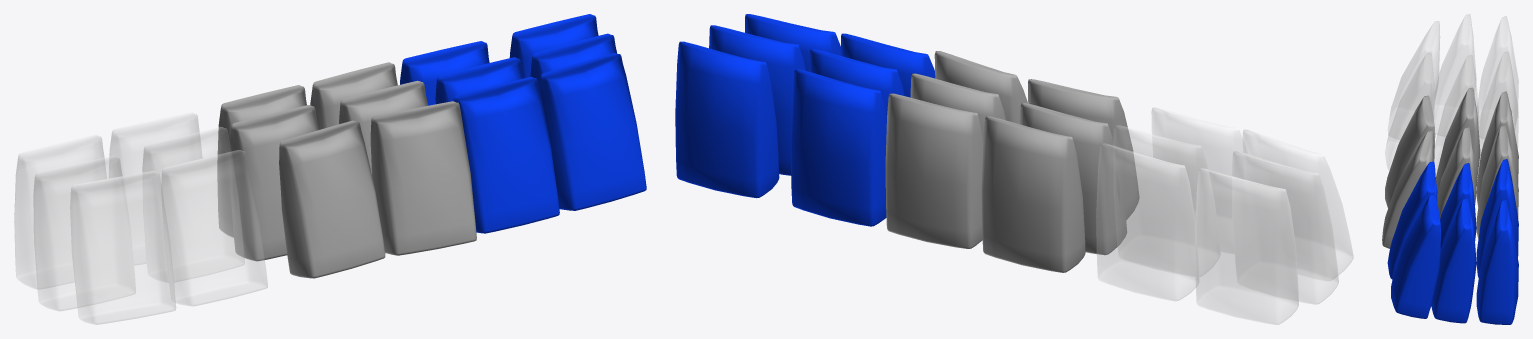
Rendered from Bag_s45li3_Pack01.fbx.
The picture shows the model from 3 angles, left to right: view 1: azimuth 30°, elevation 25°; view 2: azimuth 150°, elevation 25°; view 3: azimuth 270°, elevation 25°; orthographic projection. The views are drawn at different scales.
Parts seen in each view (by area): view 1: Bag_s45li3_Pack01; view 2: Bag_s45li3_Pack01; view 3: Bag_s45li3_Pack01.
Part boxes in pixels (x1,y1,x2,y2): Bag_s45li3_Pack01: (14,14,646,324); Bag_s45li3_Pack01: (675,14,1353,324); Bag_s45li3_Pack01: (1382,14,1518,324).
Size of the model in its own units: 118 by 24.83 by 31.16.
